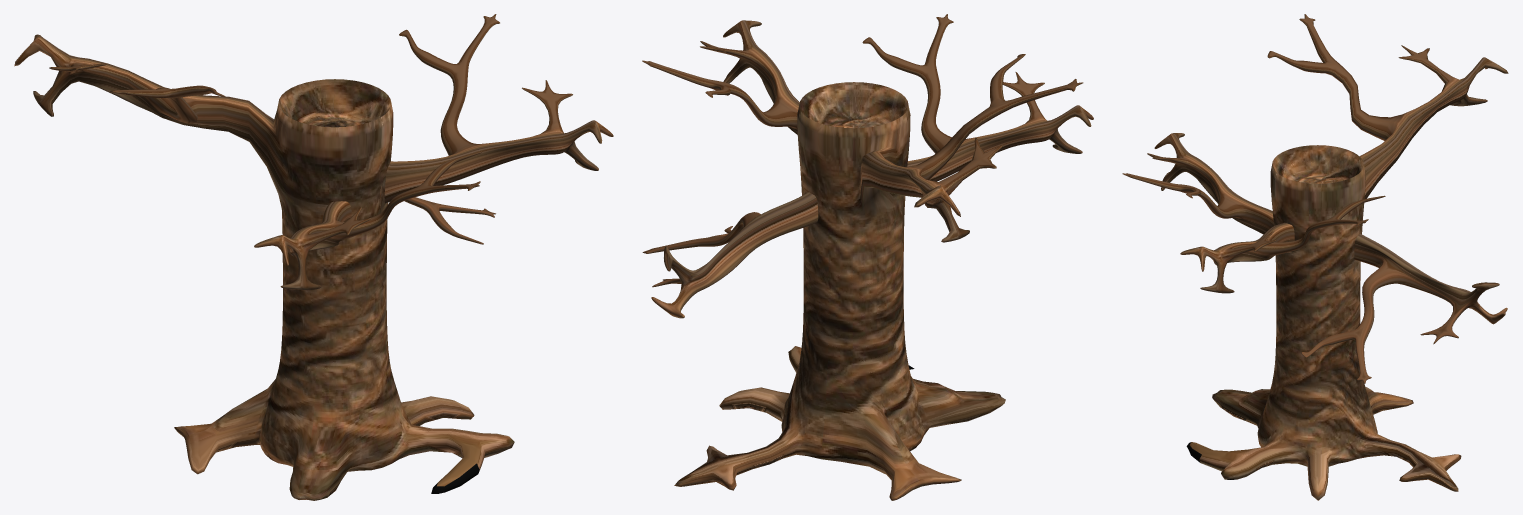
File: Arbre3.FBX
3 renders of one model, left to right at view 1: azimuth 30°, elevation 25°; view 2: azimuth 150°, elevation 25°; view 3: azimuth 270°, elevation 25°, orthographic. The views are drawn at different scales.
Parts seen in each view (by area): view 1: Arbre; view 2: Arbre; view 3: Arbre.
Part boxes in pixels (bbox=[...]): Arbre: bbox=[14, 14, 613, 500]; Arbre: bbox=[642, 14, 1093, 500]; Arbre: bbox=[1122, 14, 1508, 500].
Bounding box in the file's own units: 230 × 217 × 218.
